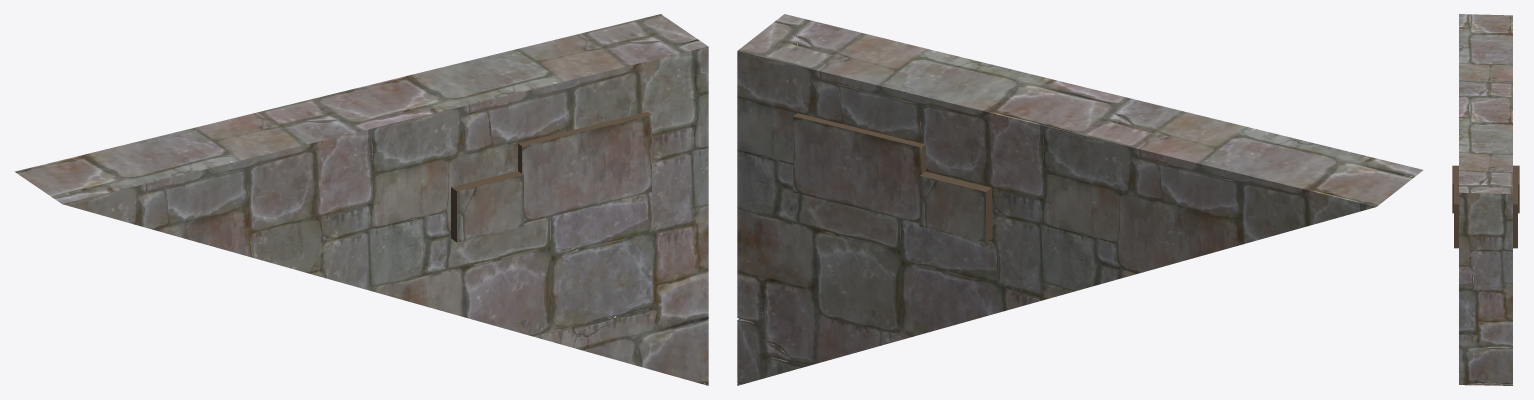
The picture shows the model from 3 angles, left to right: view 1: azimuth 30°, elevation 25°; view 2: azimuth 150°, elevation 25°; view 3: azimuth 270°, elevation 25°; orthographic projection. The views are drawn at different scales.
Visible parts, largest first — view 1: SM_BB_T3_Wall_Slanted_Shallow_Large_Inverted_LOD0; view 2: SM_BB_T3_Wall_Slanted_Shallow_Large_Inverted_LOD0; view 3: SM_BB_T3_Wall_Slanted_Shallow_Large_Inverted_LOD0.
Part boxes in pixels (left/top/right/bottom): SM_BB_T3_Wall_Slanted_Shallow_Large_Inverted_LOD0: left=15, top=14, right=708, bottom=385; SM_BB_T3_Wall_Slanted_Shallow_Large_Inverted_LOD0: left=737, top=14, right=1423, bottom=385; SM_BB_T3_Wall_Slanted_Shallow_Large_Inverted_LOD0: left=1452, top=14, right=1519, bottom=385.
Size of the model in its own units: 3 by 1.51 by 0.4789.
Materials: 1 (1 with a texture image).
